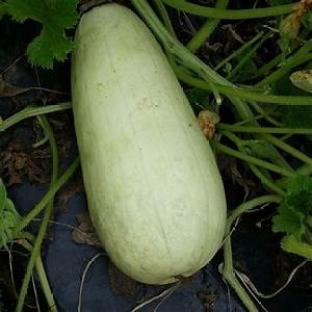Zucchini: (72, 5, 225, 283)
